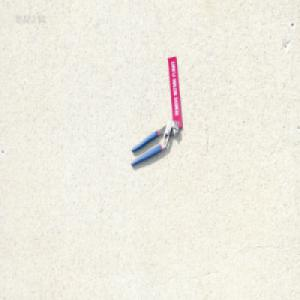Label: (165, 53, 182, 128)
Pliers: (129, 119, 179, 167)
